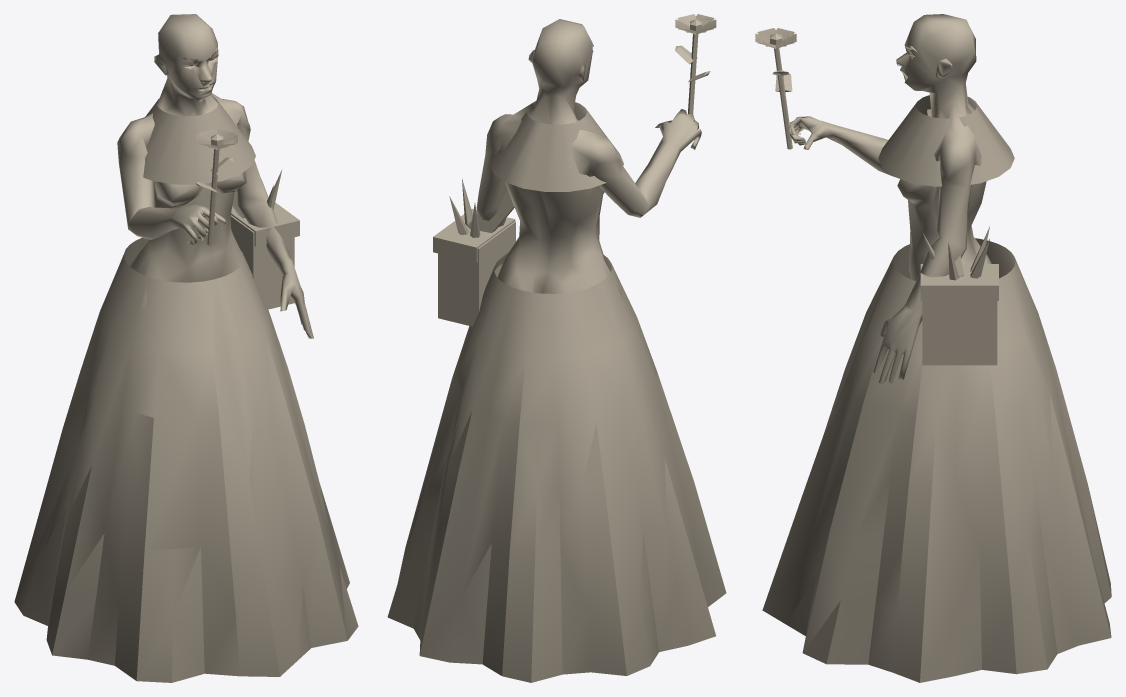
File: hero_e3.glb
The picture shows the model from 3 angles, left to right: view 1: azimuth 30°, elevation 25°; view 2: azimuth 150°, elevation 25°; view 3: azimuth 270°, elevation 25°; orthographic projection.
Visible parts, largest first — view 1: HERO_E32; view 2: HERO_E32; view 3: HERO_E32.
Boxes of the visible parts, x1,y1,x2,y2 form: HERO_E32: (14, 14, 358, 682); HERO_E32: (387, 14, 726, 682); HERO_E32: (755, 14, 1111, 682).
Size of the model in its own units: 1.73 by 3.3 by 1.8.
